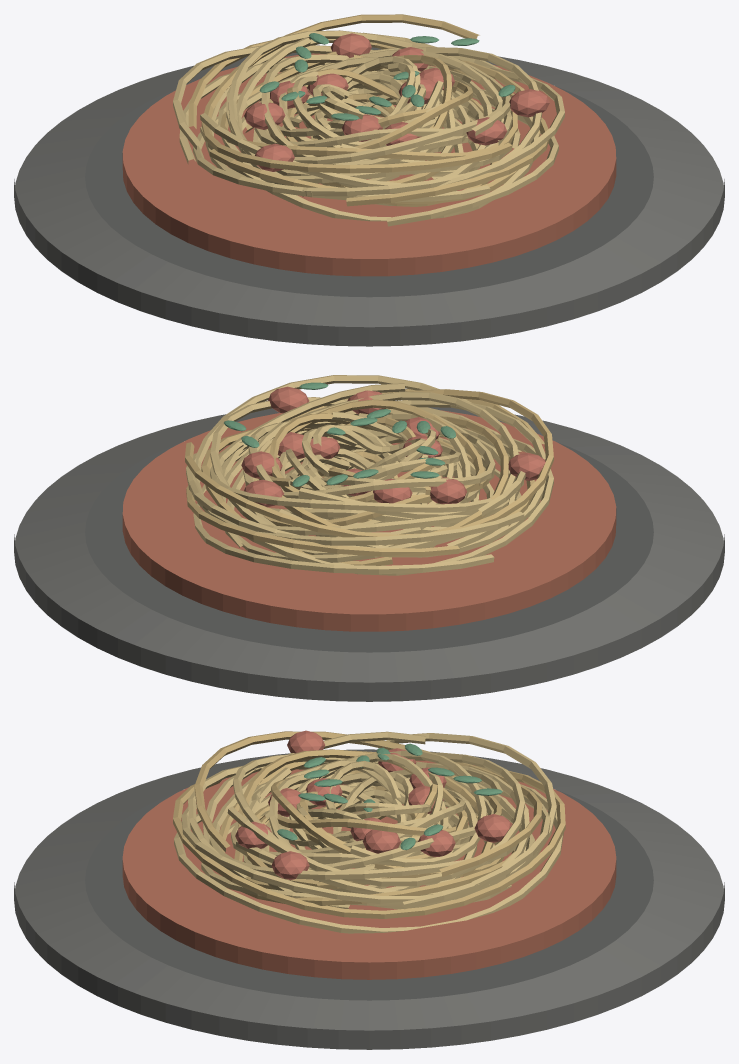
File: pasta.glb
The picture shows the model from 3 angles, top to bottom: view 1: azimuth 30°, elevation 25°; view 2: azimuth 150°, elevation 25°; view 3: azimuth 270°, elevation 25°; orthographic projection.
Parts seen in each view (by area): view 1: world; view 2: world; view 3: world.
Part boxes in pixels (<box>): world: <box>14,14,724,346</box>; world: <box>14,375,724,701</box>; world: <box>14,730,724,1049</box>.
Size of the model in its own units: 0.334 by 0.0668 by 0.334.
